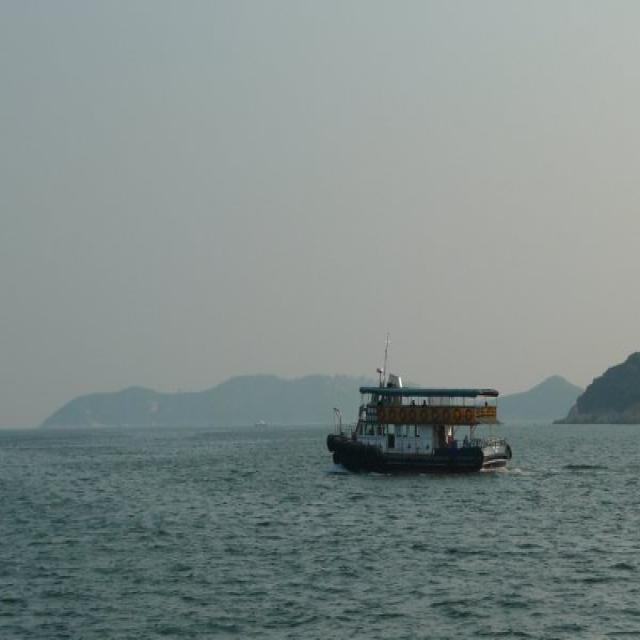houseboat: (322, 366, 515, 481)
